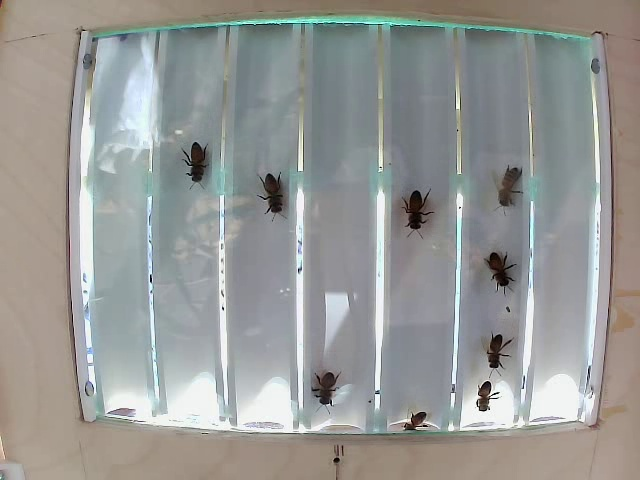bee: (398, 182, 436, 246), (186, 135, 229, 185), (312, 362, 360, 403), (474, 323, 514, 369), (462, 367, 504, 409), (393, 402, 438, 433), (257, 164, 286, 212), (481, 242, 510, 290), (495, 164, 519, 211)
